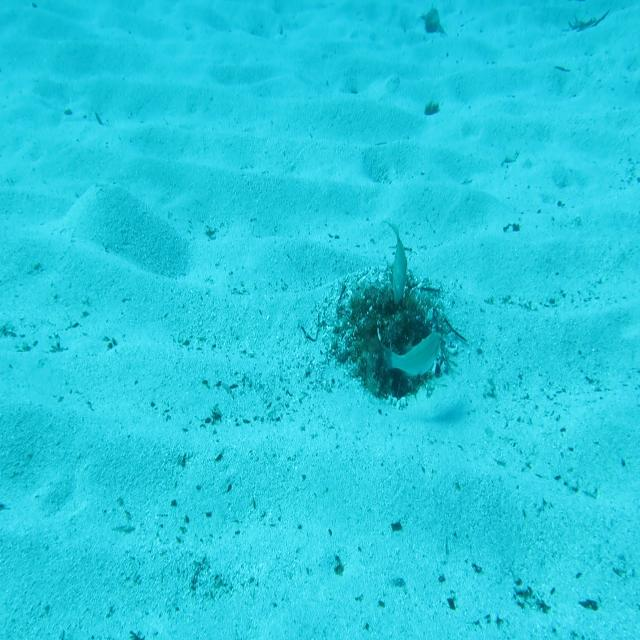NIP_CORE: (385, 219, 407, 307)
female: (379, 330, 445, 379)
nest: (334, 279, 466, 410)
